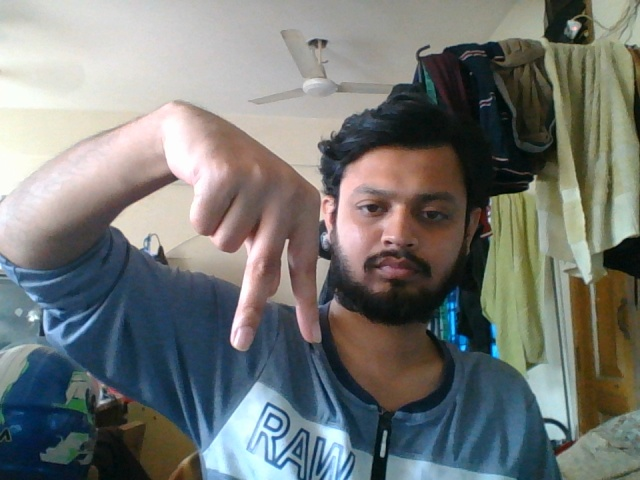pa: (157, 106, 330, 352)
